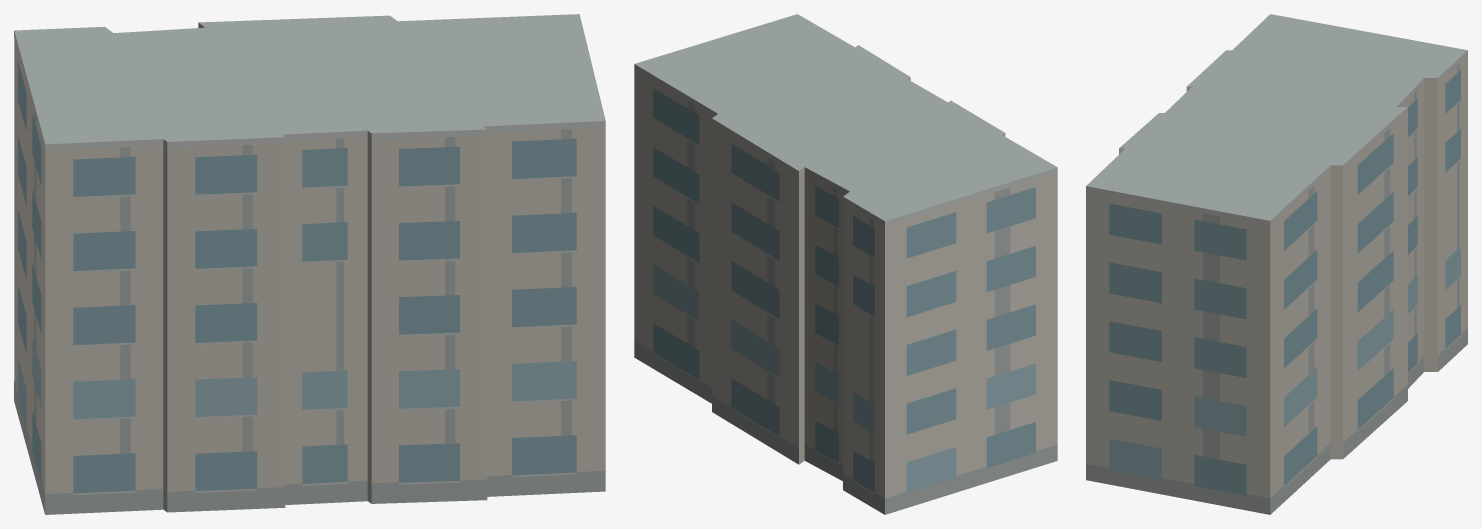
Rendered from survey-upis-32969558.glb.
The picture shows the model from 3 angles, left to right: view 1: azimuth 30°, elevation 25°; view 2: azimuth 150°, elevation 25°; view 3: azimuth 270°, elevation 25°; orthographic projection. The views are drawn at different scales.
Visible parts, largest first — view 1: survey-upis-32969558.tmp; view 2: survey-upis-32969558.tmp; view 3: survey-upis-32969558.tmp.
Part boxes in pixels (bbox=[...]): survey-upis-32969558.tmp: bbox=[14, 14, 605, 514]; survey-upis-32969558.tmp: bbox=[634, 14, 1057, 514]; survey-upis-32969558.tmp: bbox=[1086, 14, 1467, 514].
Bounding box in the file's own units: 21.44 × 14.2 × 16.72.
